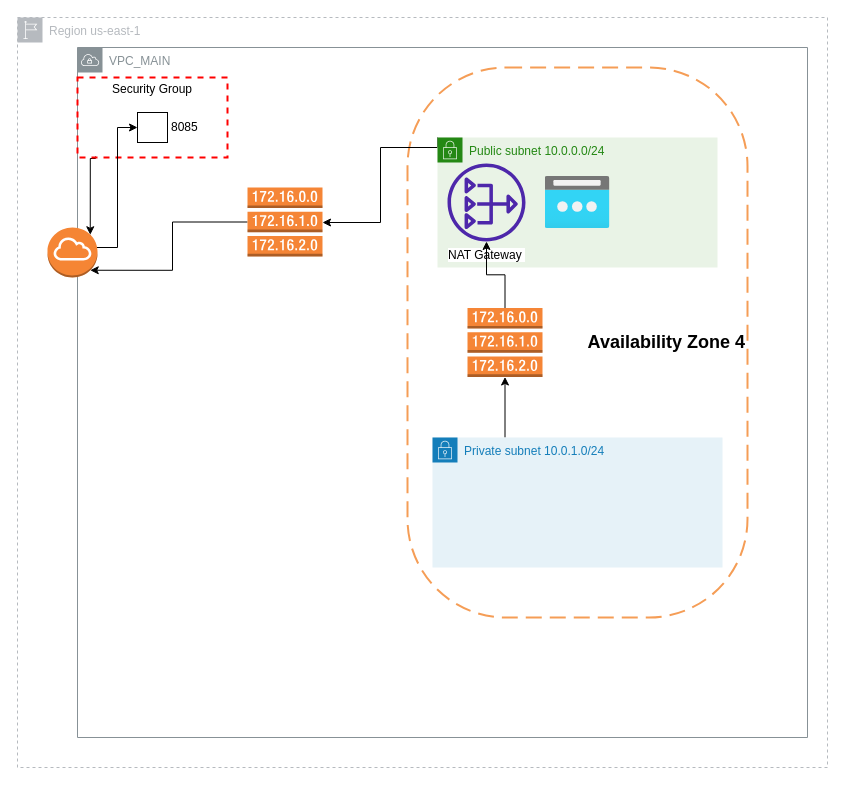
Some shapes in this 845 by 785 pixel diagram are drawn without their labels. The shapes that lost their labels are listed below. From the top down, each one's centre as x and y in pixels, then its label:
At point 284,221: "Route Table 91.189.0.0/24".
At point 577,202: "Public IP Address".
At point 72,252: "Internet Gateway".
At point 504,342: "Route Table 0.0.0.0/0".
